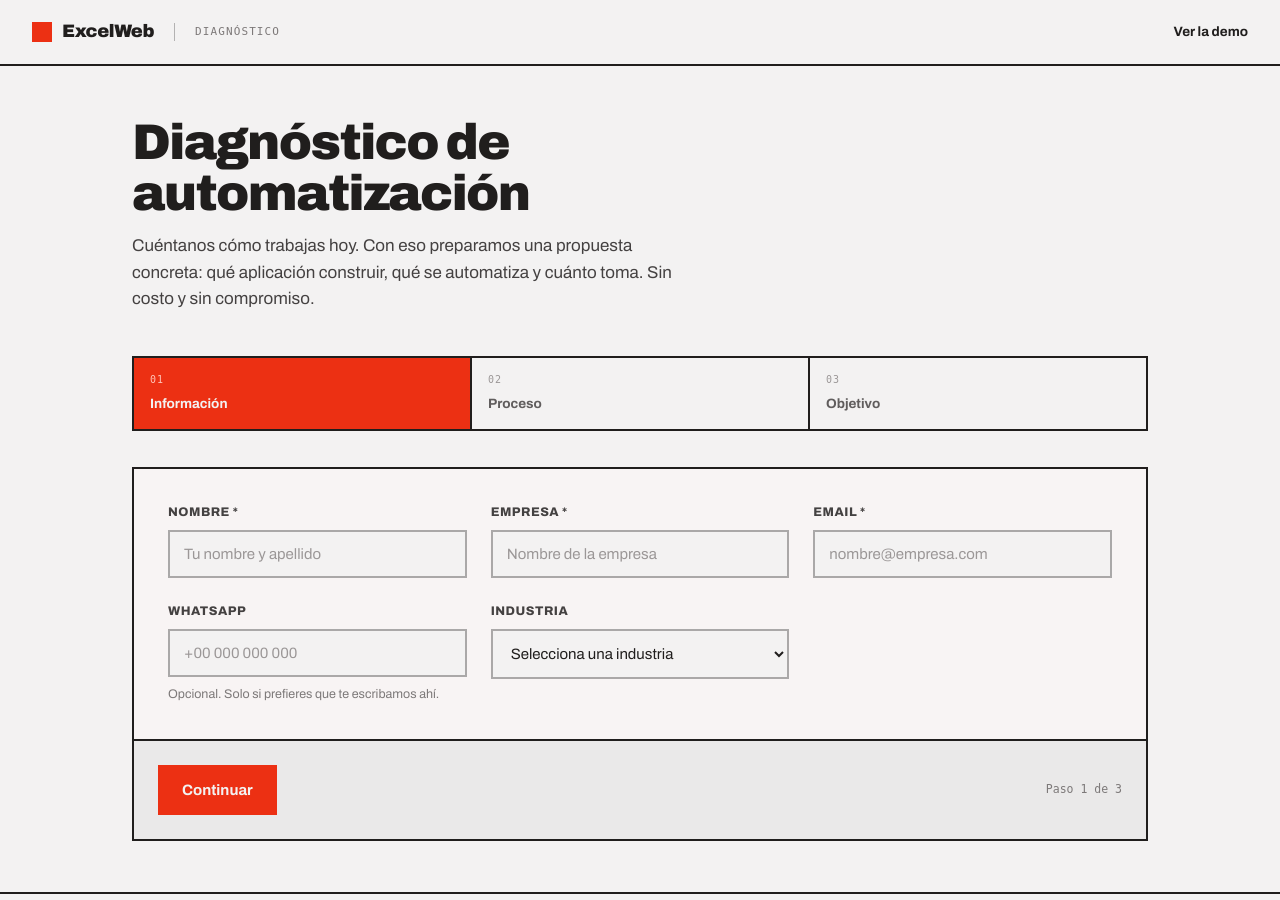
it: Diagnostico form › rejects an invalid email format
The width and height of the screenshot is (1280, 900).
Step 1. Type "Ana" into the field labelled "Nombre *" → [317, 554], box [168,530,467,578]
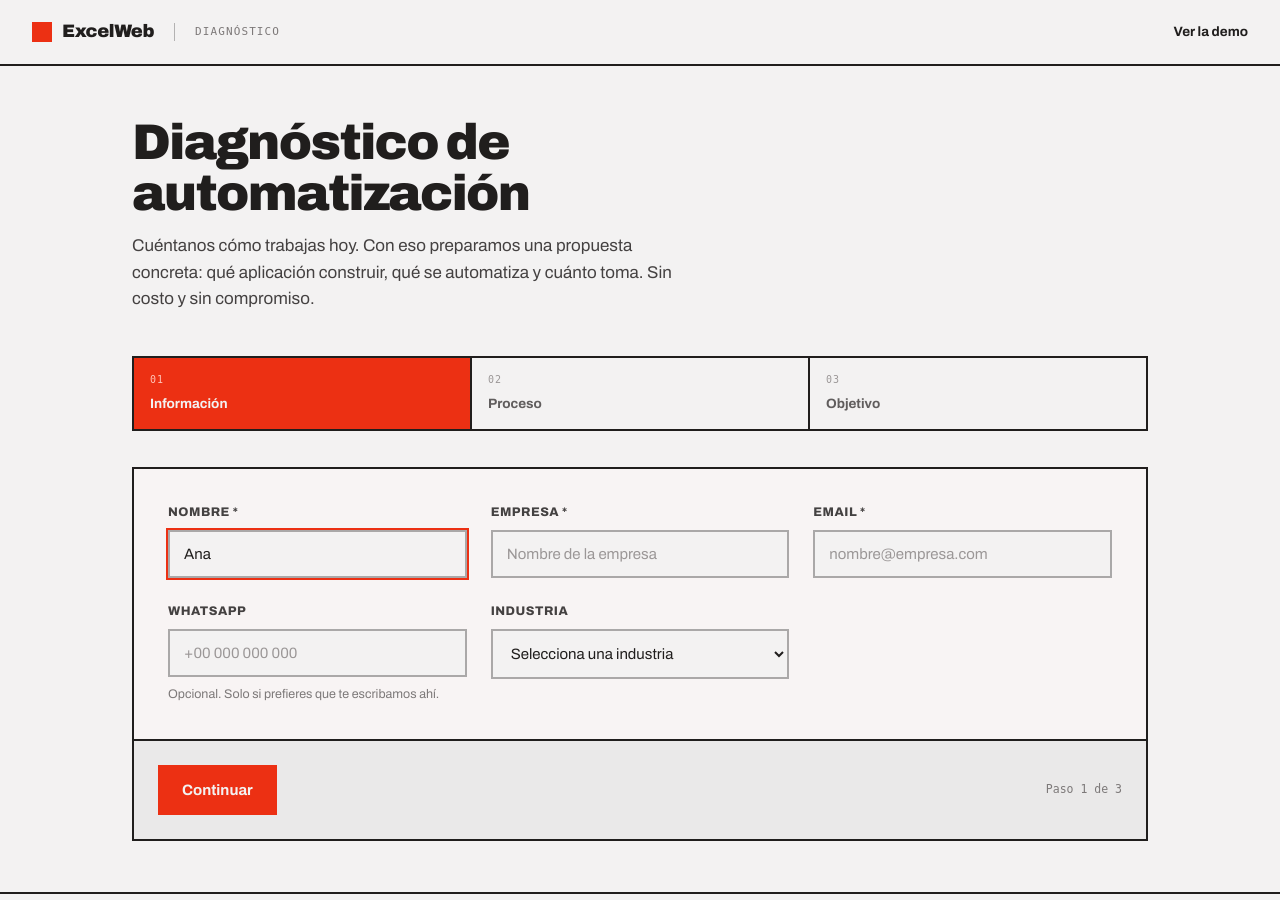
Step 2. Type "Andes" into the field labelled "Empresa *" → [640, 554], box [491,530,789,578]
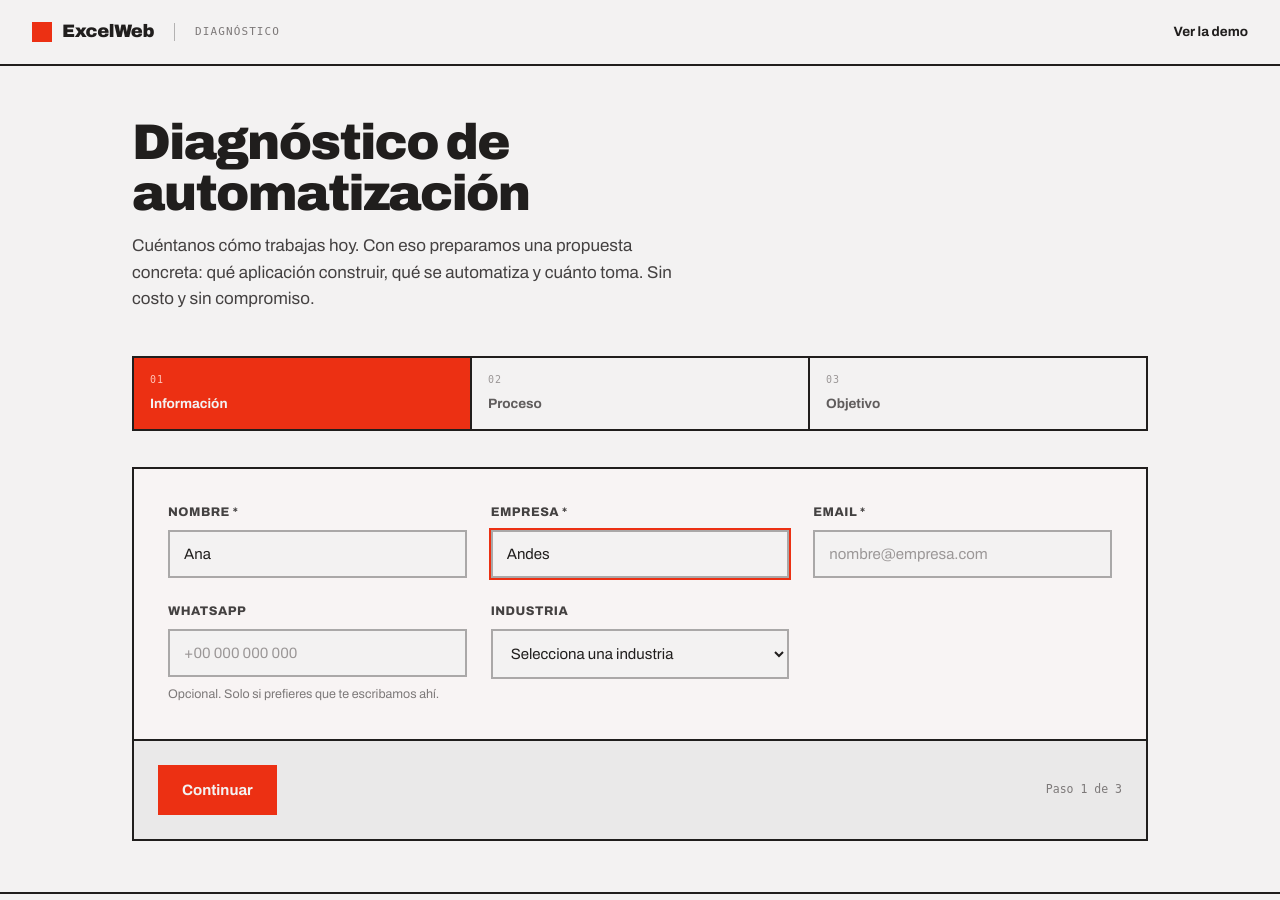
Step 3. Type "not-an-email" into the field labelled "Email *" → [963, 554], box [813,530,1112,578]
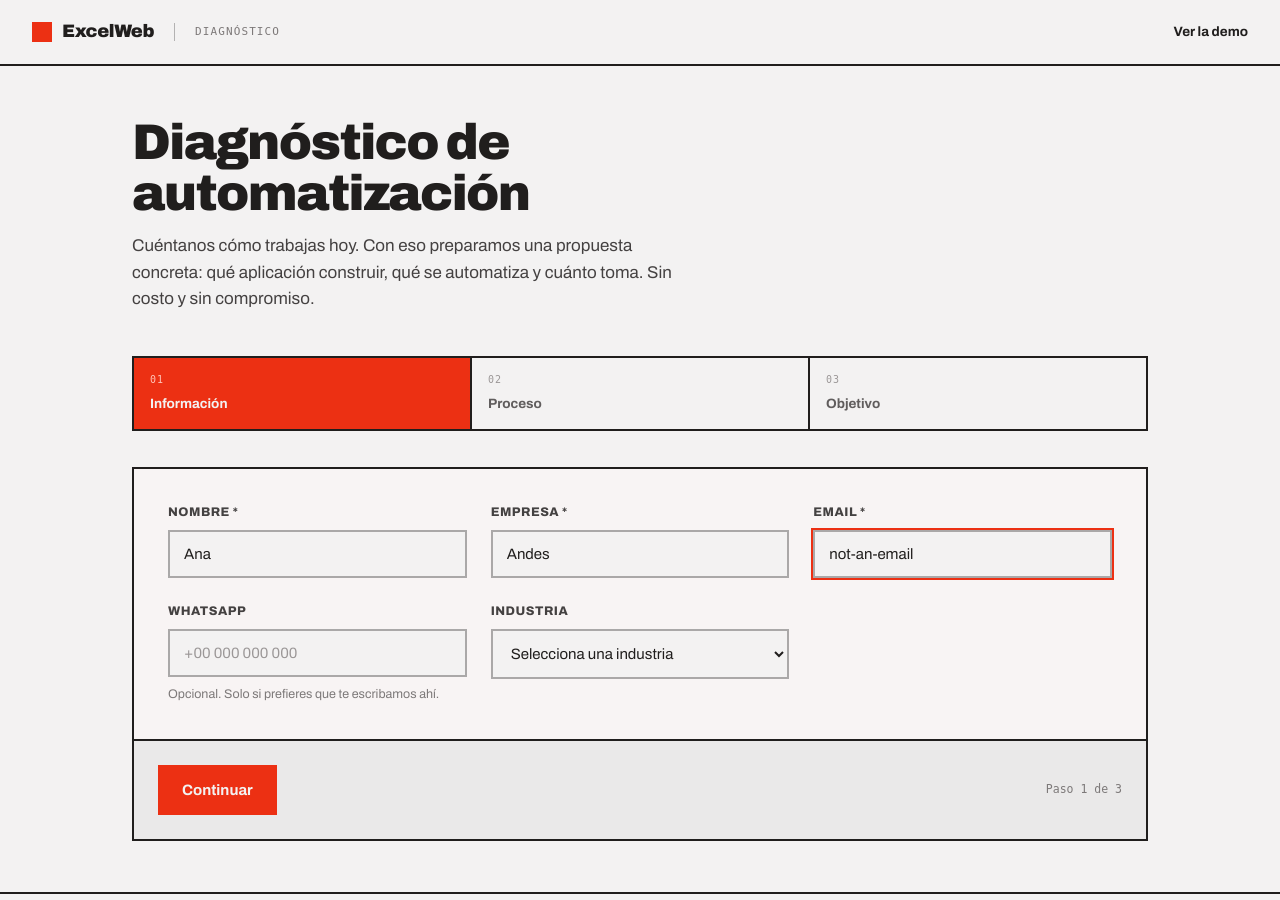
Step 4. Click the button "Continuar" → [217, 790], box [158,765,277,815]
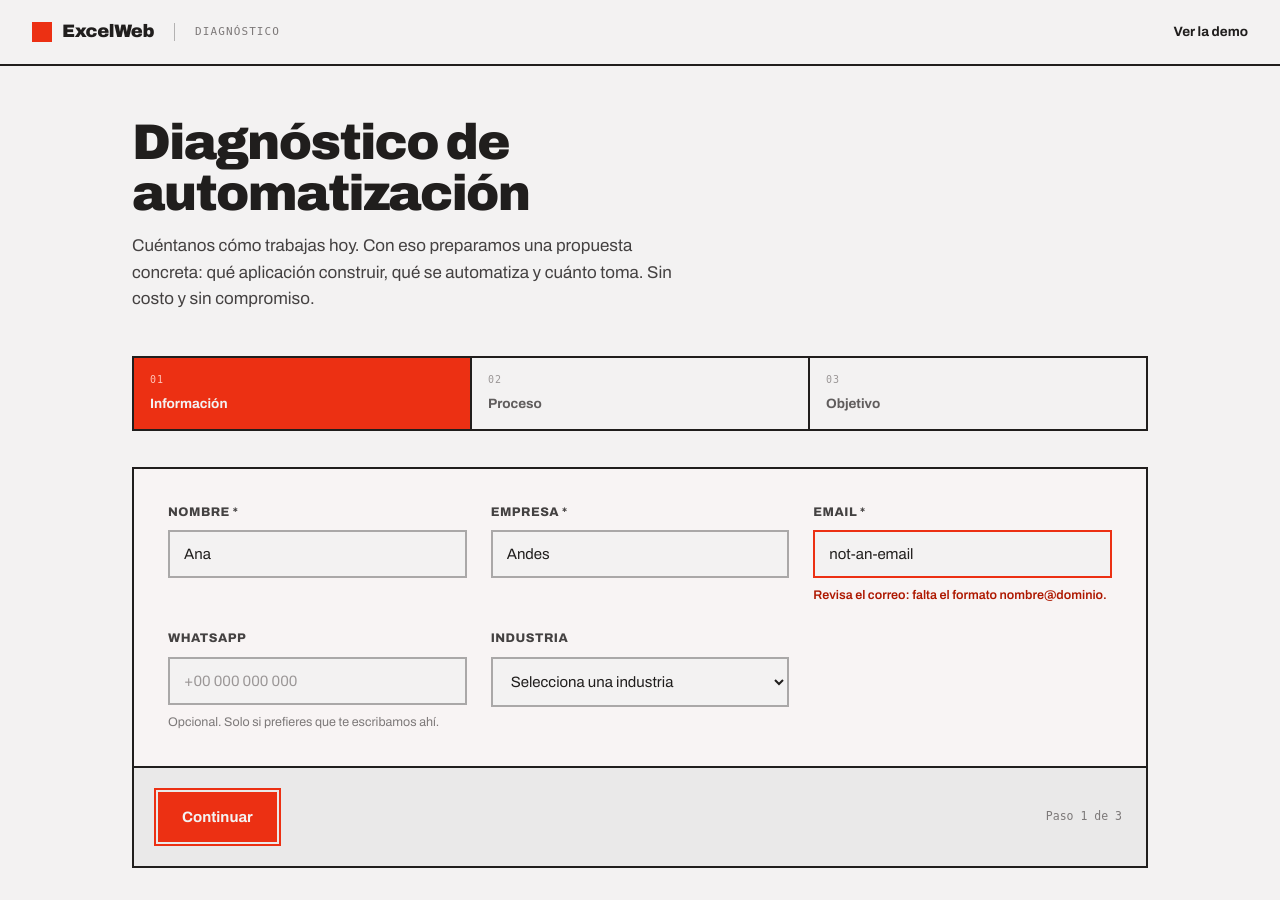
Result: the text "Revisa el correo: falta el formato nombre@dominio." is shown at [813,586,1112,605]
